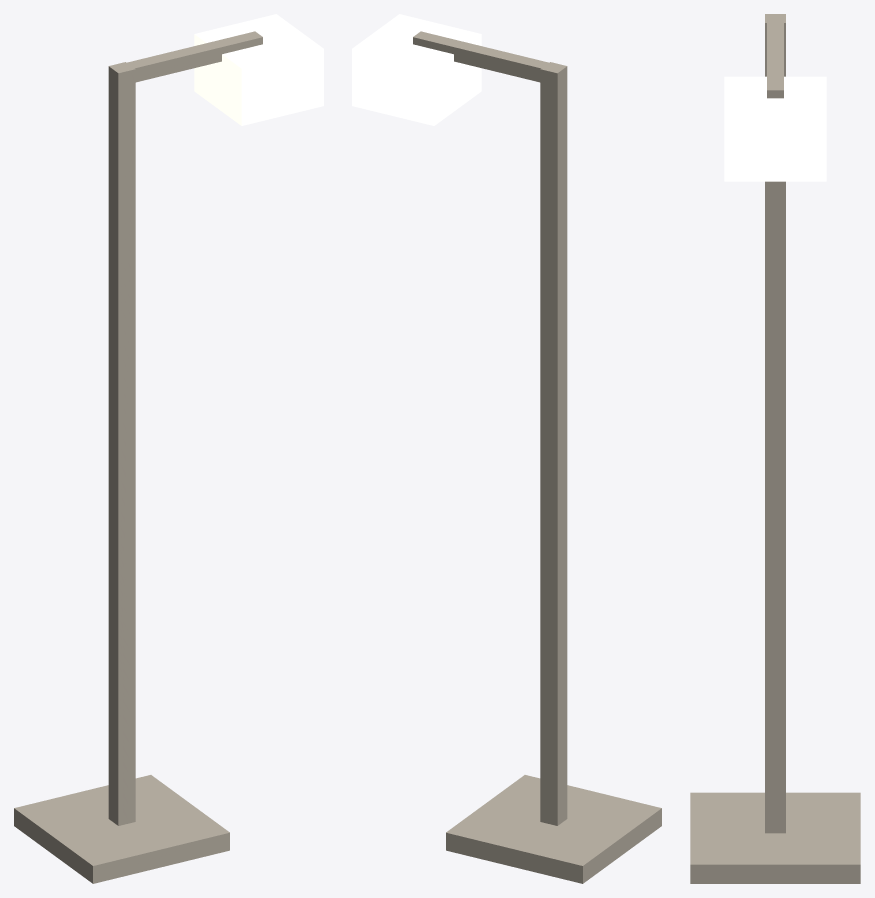
File: lamp.glb
The picture shows the model from 3 angles, left to right: view 1: azimuth 30°, elevation 25°; view 2: azimuth 150°, elevation 25°; view 3: azimuth 270°, elevation 25°; orthographic projection. The views are drawn at different scales.
Parts seen in each view (by area): view 1: Post, Foot, Shade, Arm; view 2: Post, Foot, Shade, Arm; view 3: Foot, Post, Shade, Arm.
Boxes of the visible parts, x1,y1,x2,y2 form: Post: (108,62,135,825); Foot: (14,775,229,883); Shade: (194,14,323,125); Arm: (119,31,262,82); Post: (540,62,567,825); Foot: (446,775,661,883); Shade: (352,14,481,125); Arm: (413,31,556,82); Foot: (690,792,860,883); Post: (765,14,785,833); Shade: (724,76,826,181); Arm: (767,18,783,98).
Bounding box in the file's own units: 0.72 × 2.15 × 0.4.
